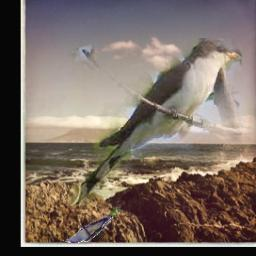Cuckoo: (69, 38, 242, 206), (64, 207, 121, 243)
